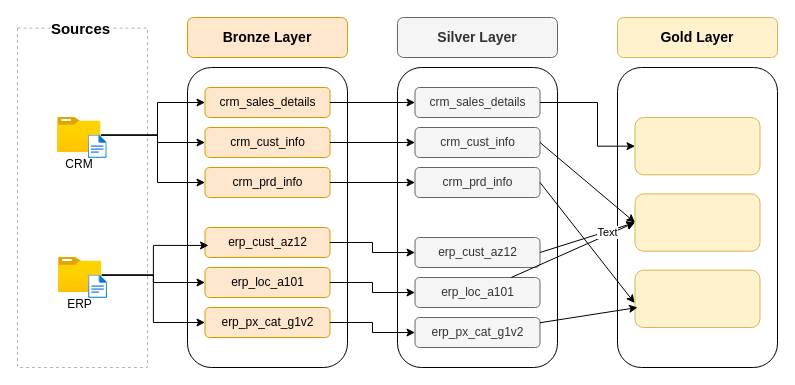
Some shapes in this 795 by 385 pixel diagram are drawn without their labels. The box of each missing label's shape, as (x1, y1, x2, y2) in pixels:
dim_customers: (634, 193, 760, 251)
dim_products: (634, 269, 760, 328)
fact_sales: (634, 116, 760, 175)
